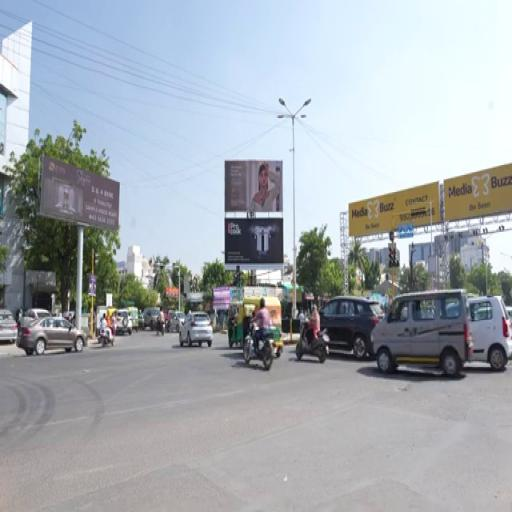Car: (372, 291, 472, 376), (320, 296, 384, 359), (468, 296, 511, 371), (17, 318, 86, 355), (180, 312, 212, 347), (0, 309, 17, 342), (20, 309, 51, 325), (116, 309, 132, 335), (144, 308, 159, 331), (171, 312, 185, 332), (26, 309, 51, 319), (166, 311, 175, 332)
